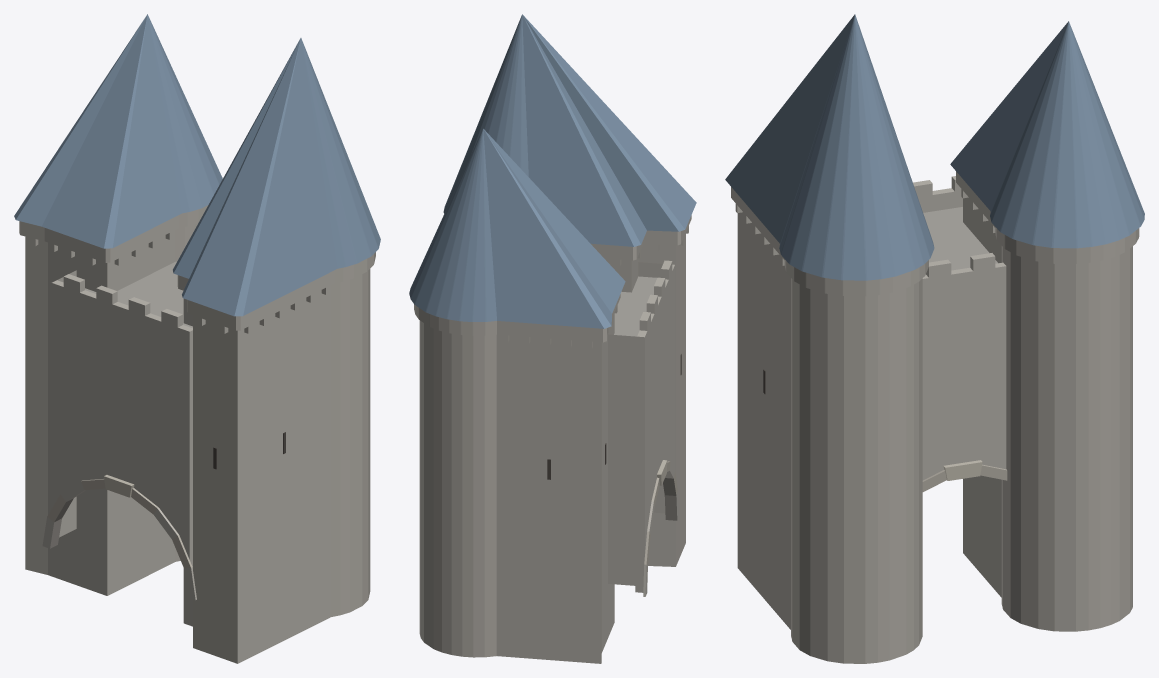
Rendered from gatehouse_2.glb.
3 views of the same model, side by side, from view 1: azimuth 30°, elevation 25°; view 2: azimuth 150°, elevation 25°; view 3: azimuth 270°, elevation 25° (orthographic). The views are drawn at different scales.
Visible parts, largest first — view 1: Gatehouse; view 2: Gatehouse; view 3: Gatehouse.
Part boxes in pixels (box(x1,y1,x2,y2)): Gatehouse: box(14, 14, 380, 663); Gatehouse: box(409, 14, 696, 663); Gatehouse: box(725, 14, 1144, 663).
Size of the model in its own units: 18.6 by 37.65 by 23.22.
